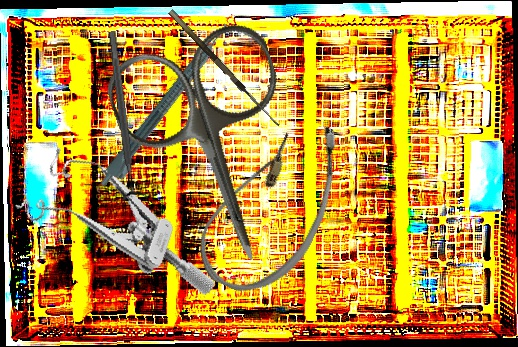Cannula: (186, 97, 359, 312)
Fixation Ring: (98, 29, 150, 202)
Handpiece: (95, 20, 240, 195)
Hook Surgical: (168, 3, 286, 129)
Iris Scissors: (99, 16, 329, 287)
Speculum: (7, 139, 241, 298)
